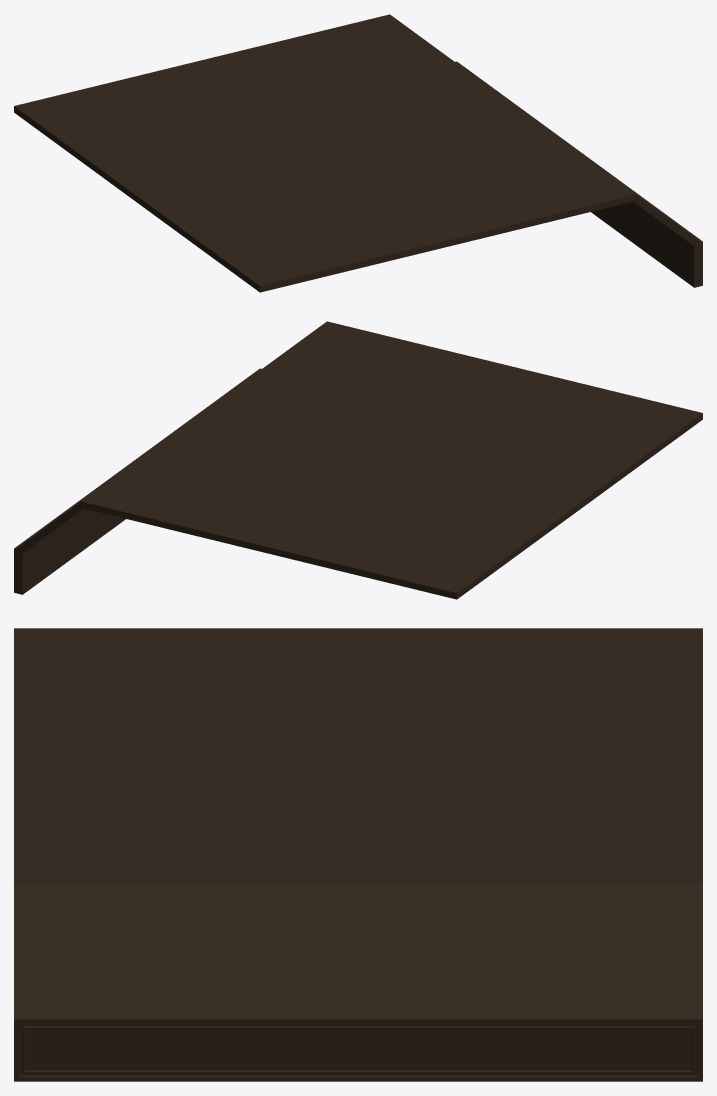
Rendered from Stall_2.fbx.
3 renders of one model, top to bottom at view 1: azimuth 30°, elevation 25°; view 2: azimuth 150°, elevation 25°; view 3: azimuth 270°, elevation 25°, orthographic. The views are drawn at different scales.
Parts seen in each view (by area): view 1: Plane.071; view 2: Plane.071; view 3: Plane.071.
Part boxes in pixels (x1=…): Plane.071: x1=14, y1=14, x2=702, y2=292; Plane.071: x1=14, y1=321, x2=702, y2=599; Plane.071: x1=14, y1=628, x2=702, y2=1081.
Size of the model in its own units: 301 by 70 by 290.
